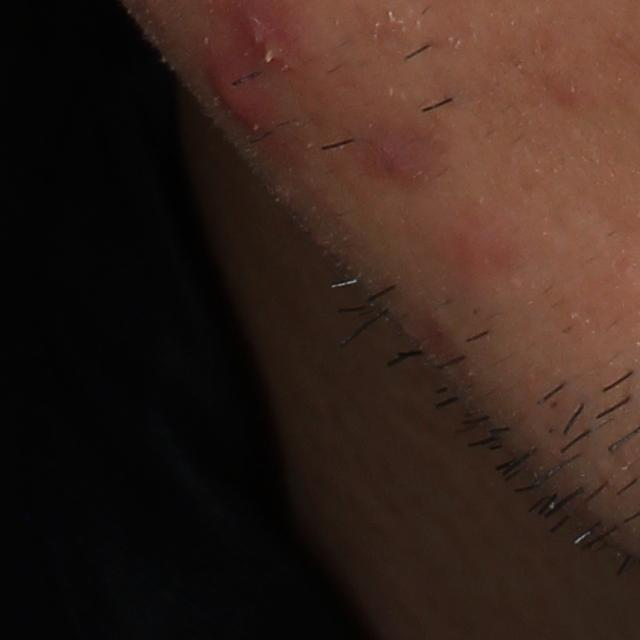papule: (206, 49, 280, 139)
